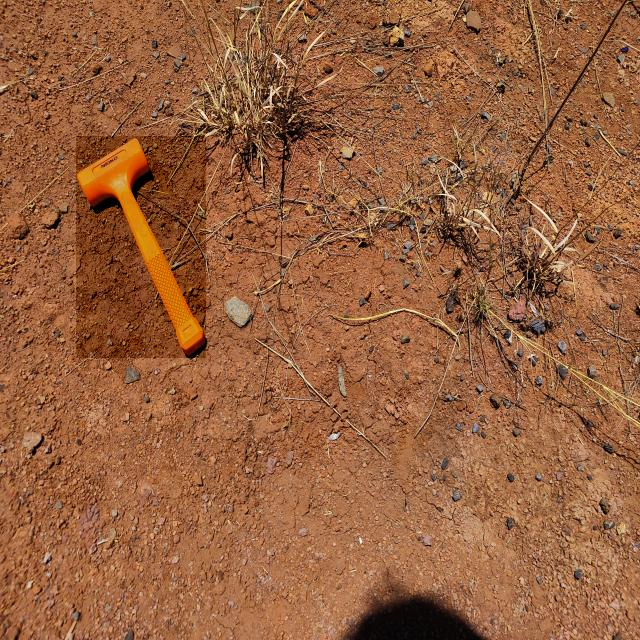Orange_hammer: (76, 136, 206, 358)
